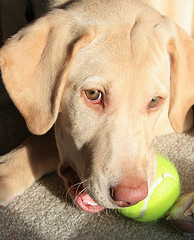tennis ball: (112, 154, 181, 227)
